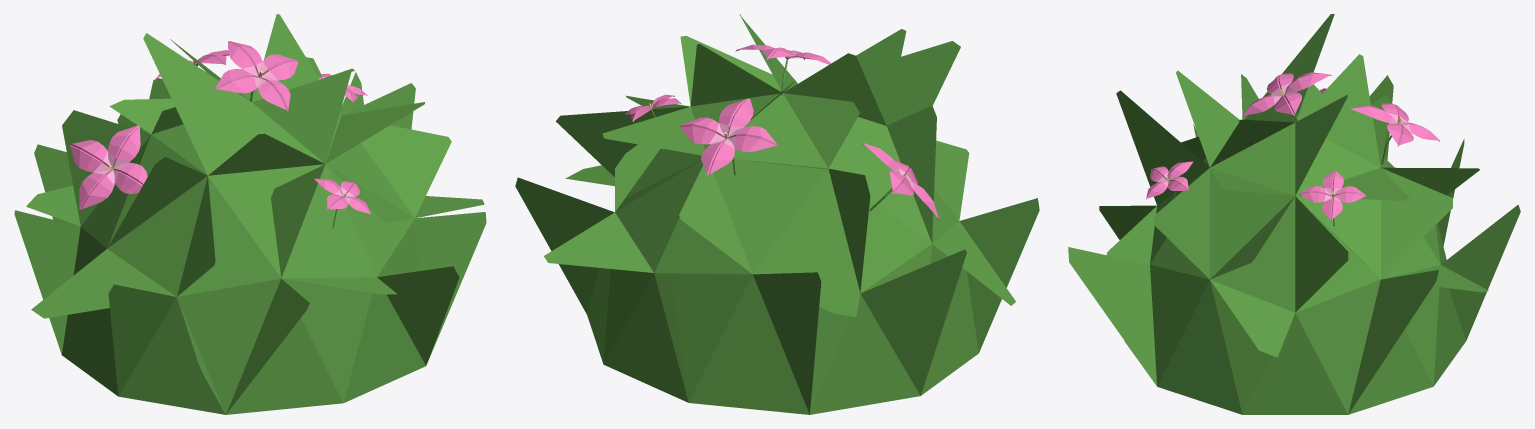
Rendered from plants-type-004.obj.
The picture shows the model from 3 angles, left to right: view 1: azimuth 30°, elevation 25°; view 2: azimuth 150°, elevation 25°; view 3: azimuth 270°, elevation 25°; orthographic projection. The views are drawn at different scales.
Parts seen in each view (by area): view 1: plants-type-004; view 2: plants-type-004; view 3: plants-type-004.
Part boxes in pixels (x1,y1,x2,y2): plants-type-004: [14, 14, 486, 414]; plants-type-004: [515, 14, 1039, 414]; plants-type-004: [1068, 14, 1520, 414].
Bounding box in the file's own units: 0.3878 × 0.2587 × 0.3678.
